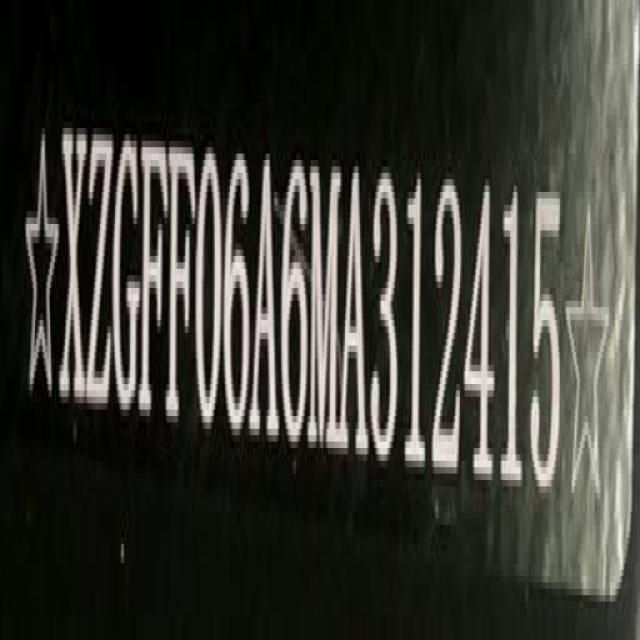0: (194, 146, 222, 446)
1: (400, 154, 430, 471), (501, 185, 525, 478)
2: (428, 164, 464, 484)
3: (372, 169, 399, 458)
4: (460, 156, 498, 484)
5: (529, 183, 563, 512)
6: (281, 162, 309, 446), (224, 146, 250, 446)
A: (341, 167, 371, 455), (250, 148, 280, 432)
F: (166, 118, 196, 426), (138, 120, 167, 430)
G: (113, 128, 139, 430)
M: (310, 167, 342, 458)
X: (58, 122, 86, 415)
Z: (88, 126, 114, 429)
